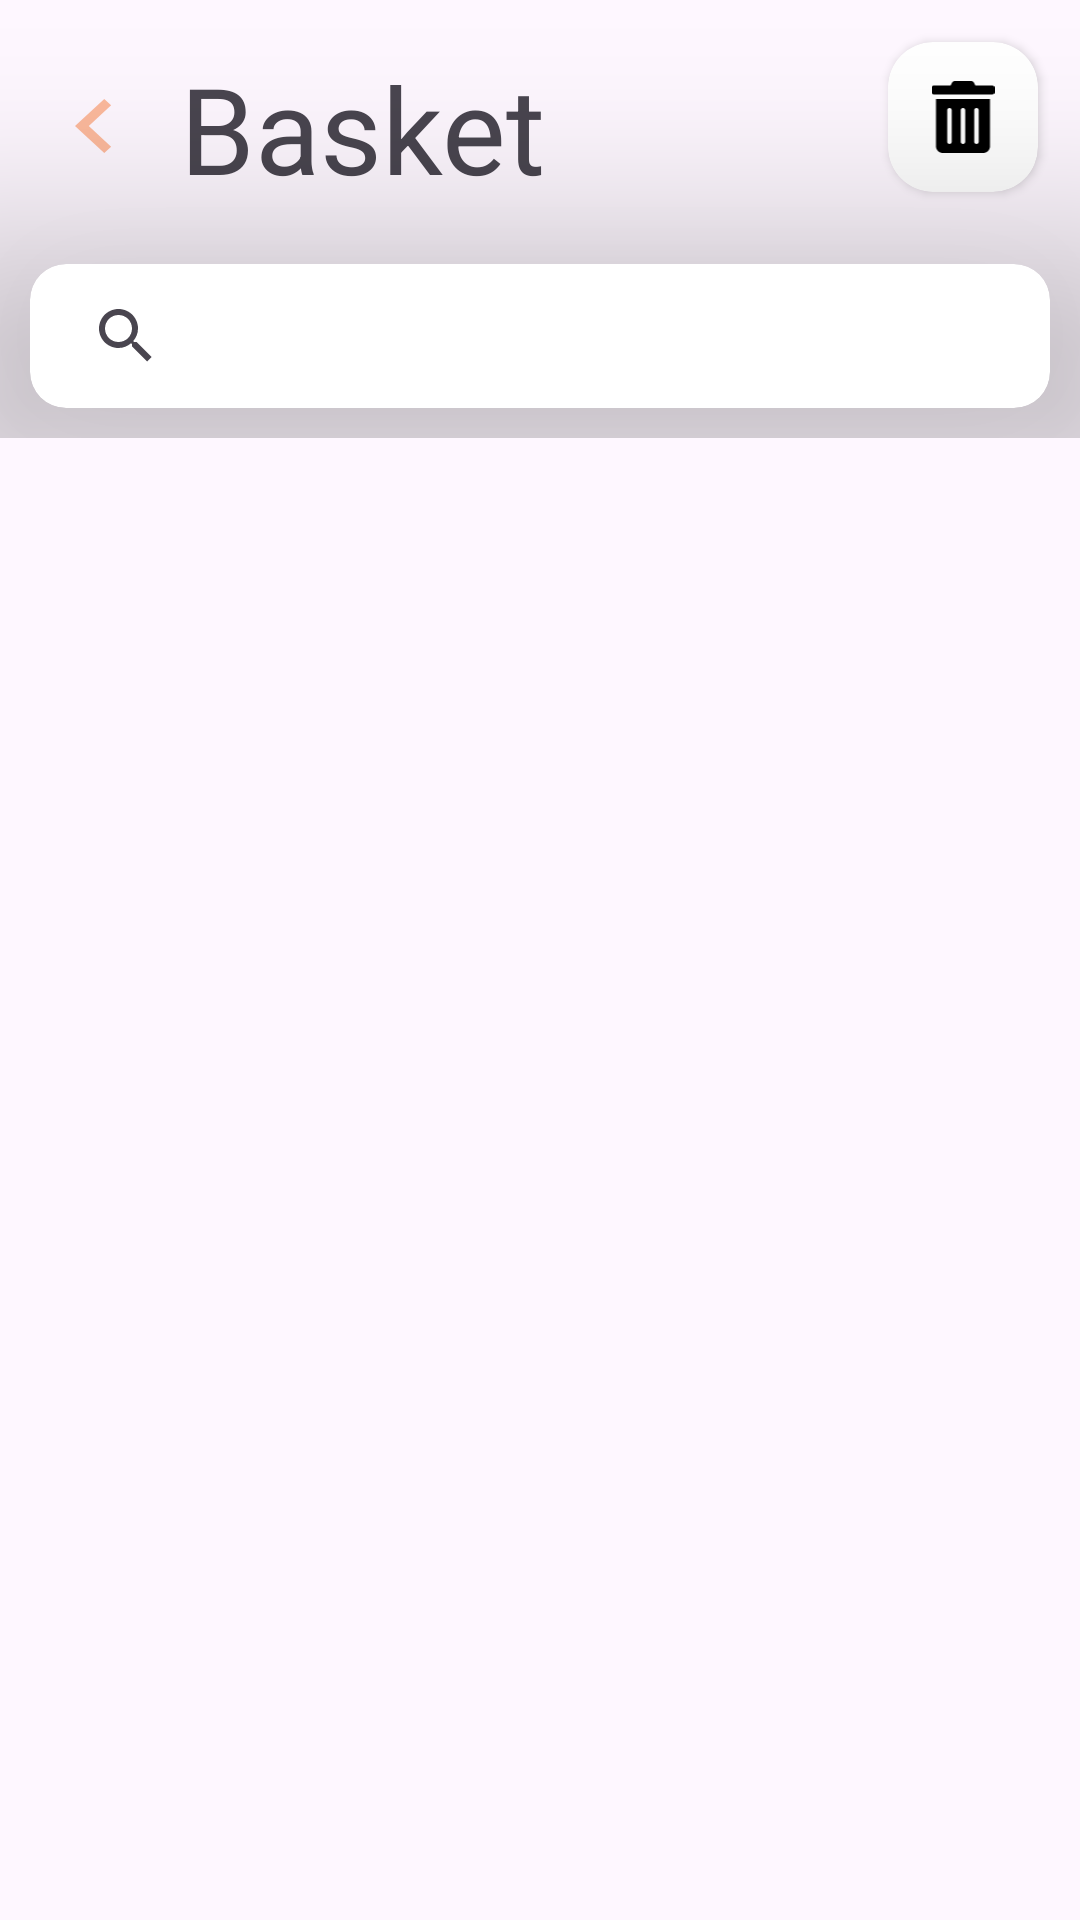

Named icons in this screenshot (1080 × 1920) and their bounding boxes, detection(x1, y1, x2, y2):
keyboard arrow left: detection(75, 99, 111, 153)
